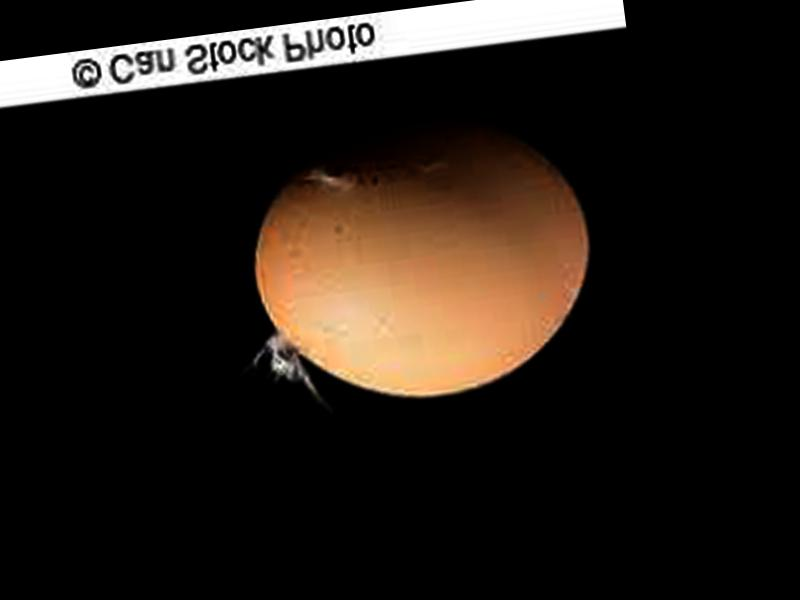Eggs: (238, 98, 607, 415)
